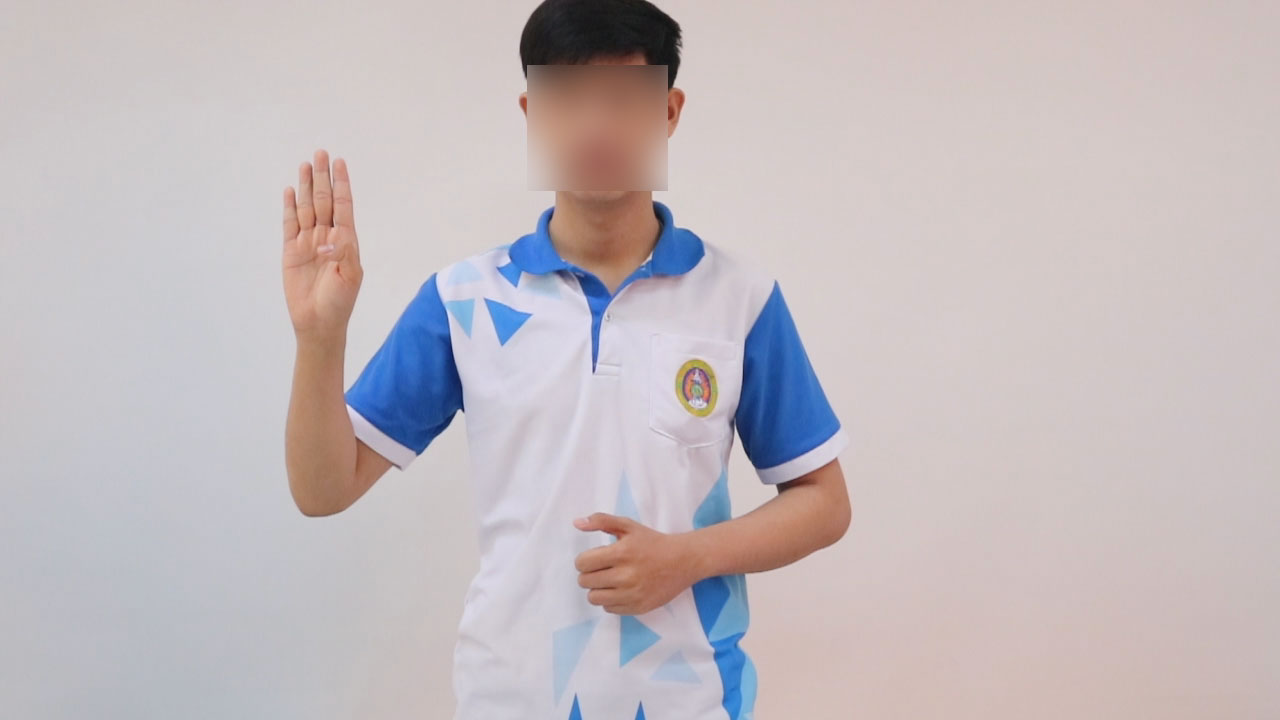bor: (262, 128, 383, 369)
